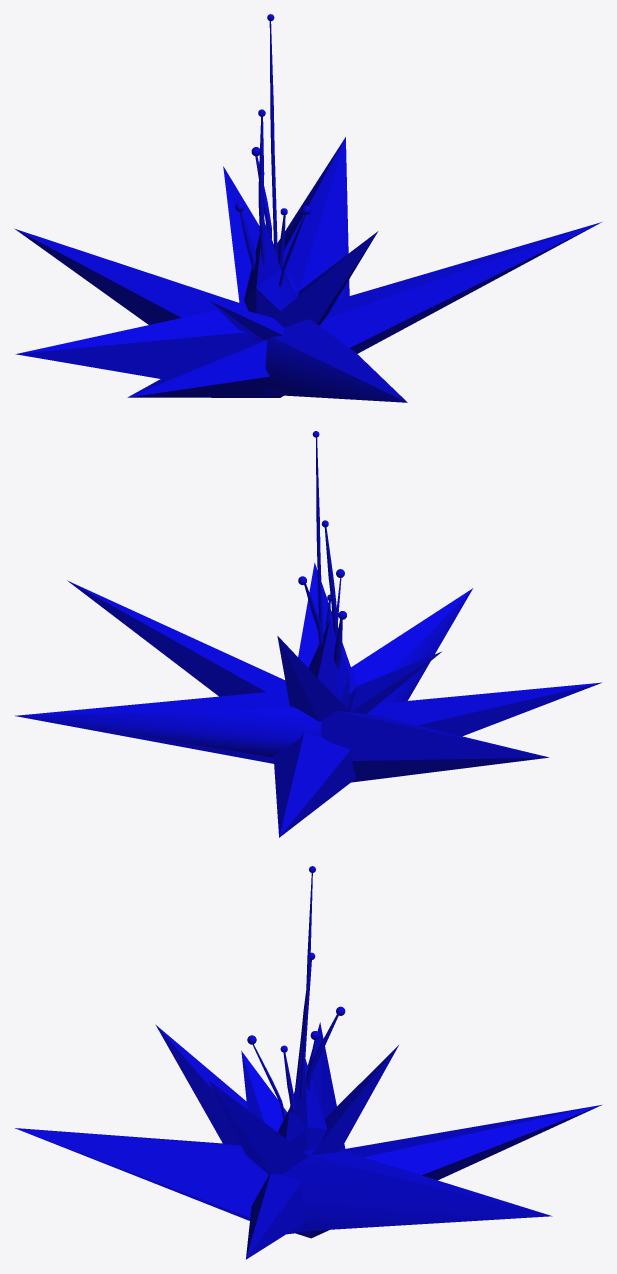
Rendered from lotusFlower.fbx.
The picture shows the model from 3 angles, top to bottom: view 1: azimuth 30°, elevation 25°; view 2: azimuth 150°, elevation 25°; view 3: azimuth 270°, elevation 25°; orthographic projection. The views are drawn at different scales.
Visible parts, largest first — view 1: pPlatonic10; view 2: pPlatonic10; view 3: pPlatonic10.
Boxes of the visible parts, x1,y1,x2,y2 form: pPlatonic10: (14,14,601,402); pPlatonic10: (15,431,601,837); pPlatonic10: (15,866,602,1259).
Size of the model in its own units: 15.48 by 9.97 by 14.63.
